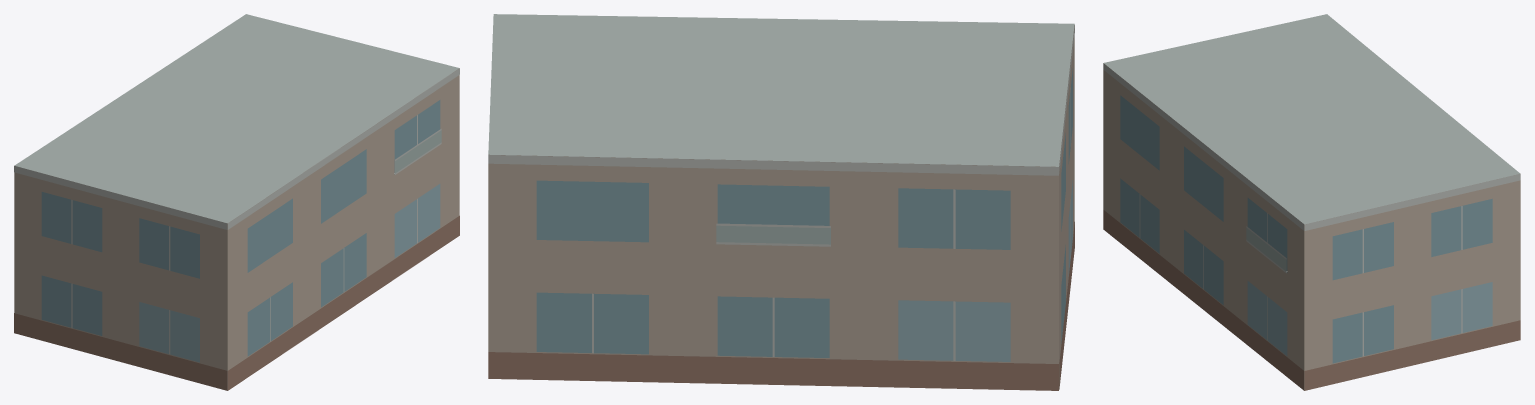
File: survey-upis-32496458.glb
3 renders of one model, left to right at view 1: azimuth 30°, elevation 25°; view 2: azimuth 150°, elevation 25°; view 3: azimuth 270°, elevation 25°, orthographic. The views are drawn at different scales.
Visible parts, largest first — view 1: survey-upis-32496458.tmp; view 2: survey-upis-32496458.tmp; view 3: survey-upis-32496458.tmp.
Boxes of the visible parts, <box> form: survey-upis-32496458.tmp: <box>14,14,459,390</box>; survey-upis-32496458.tmp: <box>488,14,1074,390</box>; survey-upis-32496458.tmp: <box>1103,14,1520,390</box>.
Size of the model in its own units: 16.56 by 6.1 by 13.87.
